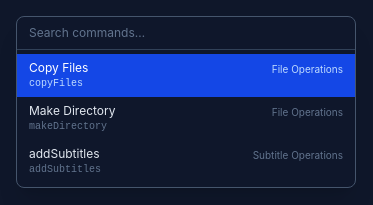
Test: CommandPicker filtering › filters commands by query
Type "copy" into the field with placeholder "Search commands…" at (186,34), box [17,17,355,50]
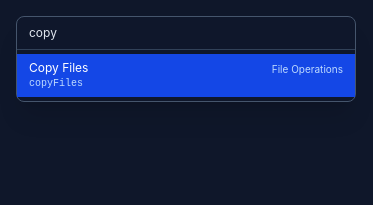
Check: the text "copyFiles" is shown, box [29,78,83,89]
Check: no buttons "makeDirectory" are shown
